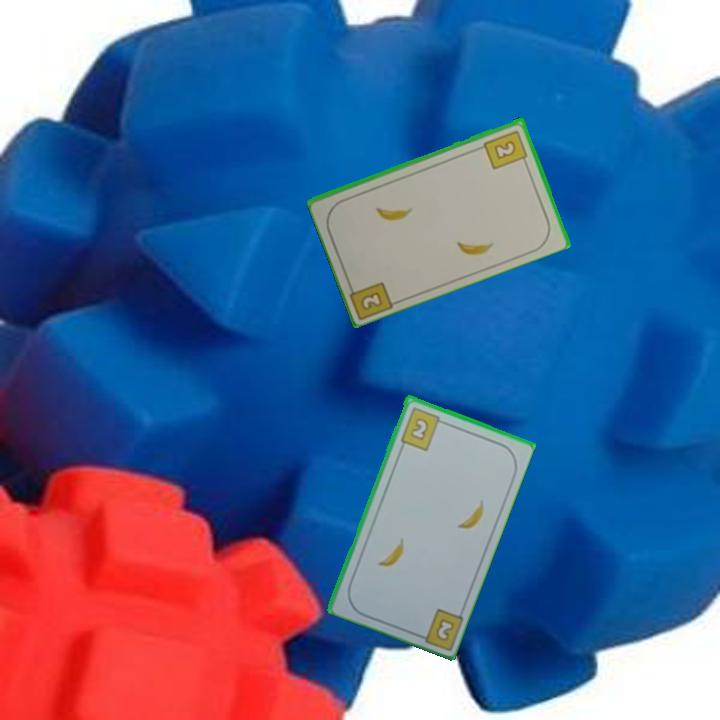2b: (396, 403, 448, 453), (344, 277, 397, 321), (480, 126, 530, 172), (432, 614, 457, 644)
